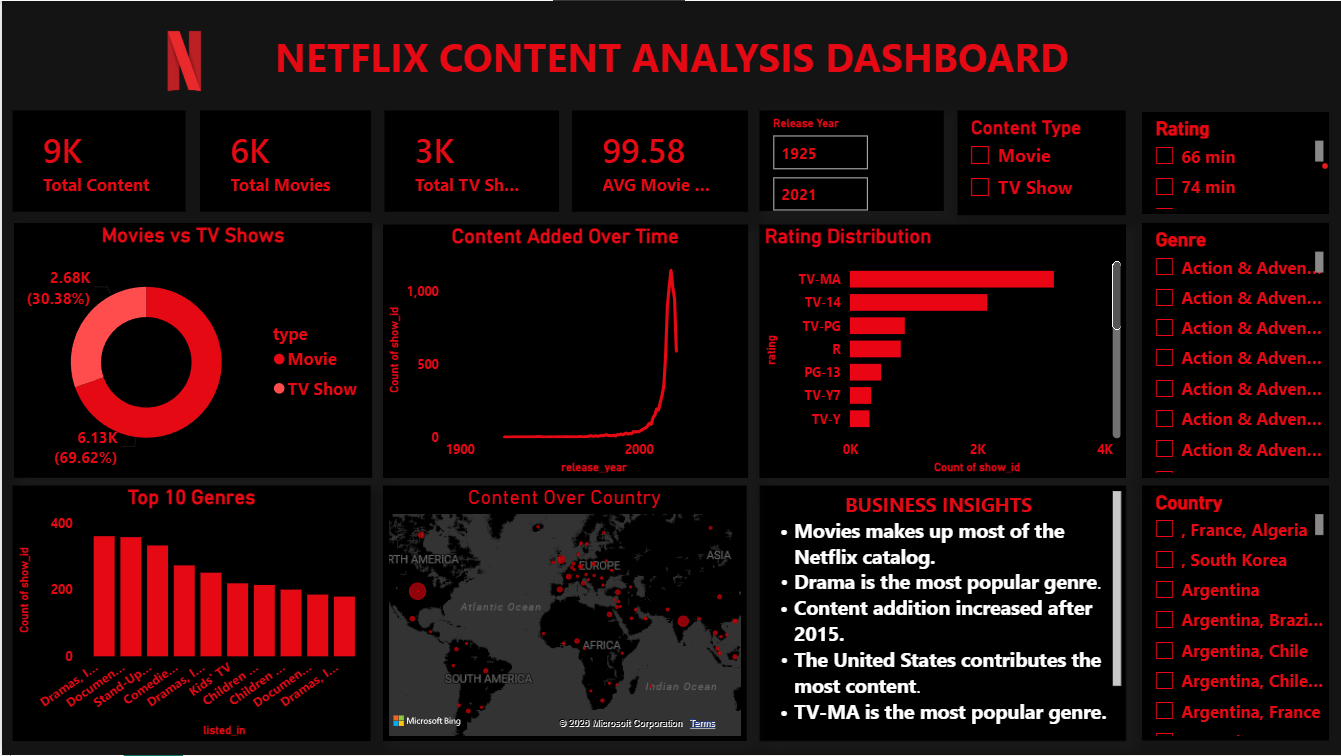

The dashboard page shown, as its layout file describes it:
{"tool":"powerbi","page":{"name":"Page 1","canvas":[1280,720],"ordinal":0},"visuals":[{"type":"textbox","box":[0,22.7,1279.5,71.2],"z":0},{"type":"image","box":[92.4,0,165,134.8],"z":1000},{"type":"cardVisual","fields":{"Data":["6bd543f8-f76c-4873-9769-09090d8.Total Movies"]},"box":[189.3,104.5,163.5,96.9],"z":2000},{"type":"cardVisual","fields":{"Data":["6bd543f8-f76c-4873-9769-09090d8.Total TV Shows"]},"box":[364.9,104.5,166.6,96.9],"z":3000},{"type":"cardVisual","fields":{"Data":["6bd543f8-f76c-4873-9769-09090d8.AVG Movie Duration"]},"box":[543.6,104.5,168.1,96.9],"z":4000},{"type":"cardVisual","fields":{"Data":["6bd543f8-f76c-4873-9769-09090d8.Total Content"]},"box":[10.6,104.5,165,96.9],"z":5000},{"type":"donutChart","title":"Movies vs TV Shows","fields":{"Y":["CountNonNull(6bd543f8-f76c-4873-9769-09090d8.show_id)"],"Category":["6bd543f8-f76c-4873-9769-09090d8.type"]},"box":[11.1,211.6,342,243.4],"z":6000},{"type":"lineChart","title":"Content Added Over Time","fields":{"Category":["6bd543f8-f76c-4873-9769-09090d8.release_year"],"Y":["CountNonNull(6bd543f8-f76c-4873-9769-09090d8.show_id)"]},"box":[364.2,213.1,348.3,241.8],"z":7000},{"type":"clusteredColumnChart","title":"Top 10 Genres","fields":{"Y":["CountNonNull(6bd543f8-f76c-4873-9769-09090d8.show_id)"],"Category":["6bd543f8-f76c-4873-9769-09090d8.listed_in"]},"box":[10.6,463.3,342.2,243.8],"z":8000},{"type":"barChart","title":"Rating Distribution","fields":{"Category":["6bd543f8-f76c-4873-9769-09090d8.rating"],"Y":["CountNonNull(6bd543f8-f76c-4873-9769-09090d8.show_id)"]},"box":[723.7,213.1,349.9,241.8],"z":9000},{"type":"slicer","fields":{"Values":["6bd543f8-f76c-4873-9769-09090d8.listed_in"]},"box":[1088,211.6,178.1,243.4],"z":10000},{"type":"slicer","fields":{"Values":["6bd543f8-f76c-4873-9769-09090d8.country"]},"box":[1088,462.9,178.1,243.4],"z":11000},{"type":"slicer","fields":{"Values":["6bd543f8-f76c-4873-9769-09090d8.rating"]},"box":[1088,106.6,178.1,97],"z":12000},{"type":"slicer","fields":{"Values":["6bd543f8-f76c-4873-9769-09090d8.release_year"]},"box":[723.7,105,176,96],"z":13000},{"type":"slicer","fields":{"Values":["6bd543f8-f76c-4873-9769-09090d8.type"]},"box":[913,105,160.7,100.2],"z":14000},{"type":"textbox","box":[724,463,350,244],"z":15000},{"type":"map","title":"Content Over Country","fields":{"Category":["6bd543f8-f76c-4873-9769-09090d8.country"],"Size":["CountNonNull(6bd543f8-f76c-4873-9769-09090d8.show_id)"]},"box":[364,463,347,244],"z":16000}]}

Visuals, with their boxes in screenshot pixels (x1, y1, x2, y2), scaled from the page's 1280x720 canvas onto the 1341x756 screenshot:
textbox: pyautogui.locateOnScreen(0, 24, 1340, 99)
image: pyautogui.locateOnScreen(97, 0, 270, 142)
cardVisual - 6bd543f8-f76c-4873-9769-09090d8.Total Movies: pyautogui.locateOnScreen(198, 110, 370, 211)
cardVisual - 6bd543f8-f76c-4873-9769-09090d8.Total TV Shows: pyautogui.locateOnScreen(382, 110, 557, 211)
cardVisual - 6bd543f8-f76c-4873-9769-09090d8.AVG Movie Duration: pyautogui.locateOnScreen(570, 110, 746, 211)
cardVisual - 6bd543f8-f76c-4873-9769-09090d8.Total Content: pyautogui.locateOnScreen(11, 110, 184, 211)
"Movies vs TV Shows" donutChart: pyautogui.locateOnScreen(12, 222, 370, 478)
"Content Added Over Time" lineChart: pyautogui.locateOnScreen(382, 224, 746, 478)
"Top 10 Genres" clusteredColumnChart: pyautogui.locateOnScreen(11, 486, 370, 742)
"Rating Distribution" barChart: pyautogui.locateOnScreen(758, 224, 1125, 478)
slicer - 6bd543f8-f76c-4873-9769-09090d8.listed_in: pyautogui.locateOnScreen(1140, 222, 1326, 478)
slicer - 6bd543f8-f76c-4873-9769-09090d8.country: pyautogui.locateOnScreen(1140, 486, 1326, 742)
slicer - 6bd543f8-f76c-4873-9769-09090d8.rating: pyautogui.locateOnScreen(1140, 112, 1326, 214)
slicer - 6bd543f8-f76c-4873-9769-09090d8.release_year: pyautogui.locateOnScreen(758, 110, 943, 211)
slicer - 6bd543f8-f76c-4873-9769-09090d8.type: pyautogui.locateOnScreen(957, 110, 1125, 215)
textbox: pyautogui.locateOnScreen(759, 486, 1125, 742)
"Content Over Country" map: pyautogui.locateOnScreen(381, 486, 745, 742)
